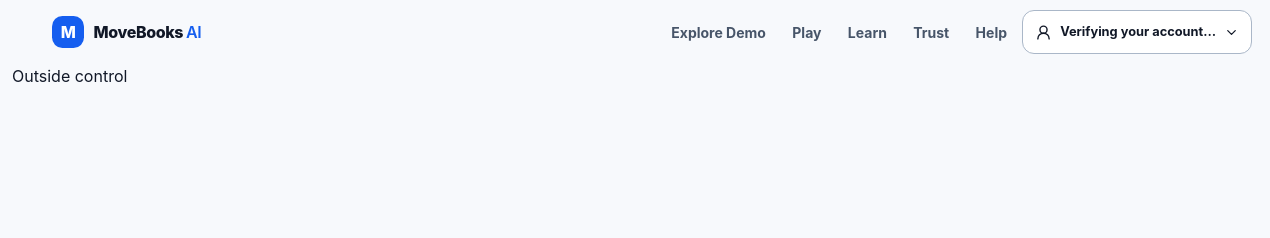
Test case: global account and settings shell › keeps pending verification distinct from an attention/error state
Click the button with aria-label "Account:". click: point(1137, 32)
box: [1022,10,1252,54]
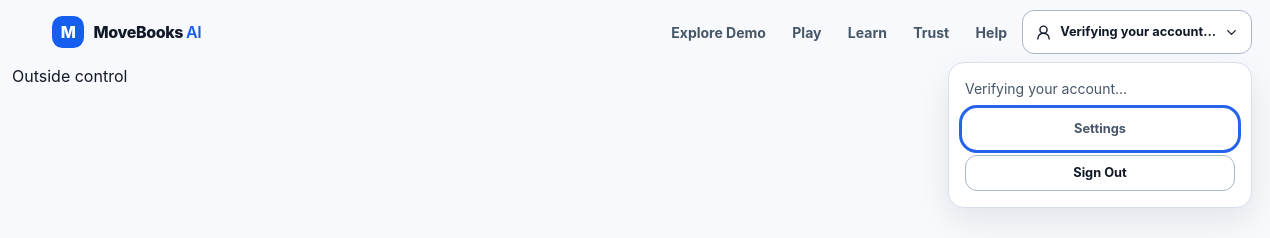
Result: the message reads "Verifying your account…" at [965,80,1127,97]
Result: the button "Sign Out" is enabled at [965,155,1235,191]
